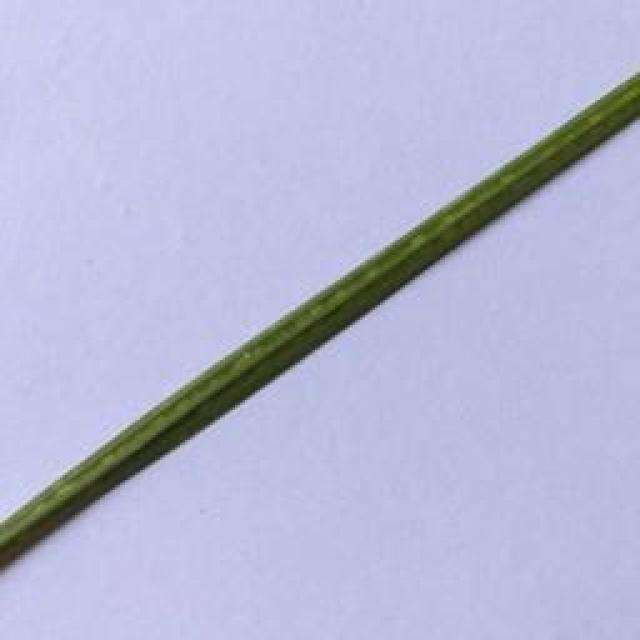Healthy-Plant: (0, 74, 640, 562)
